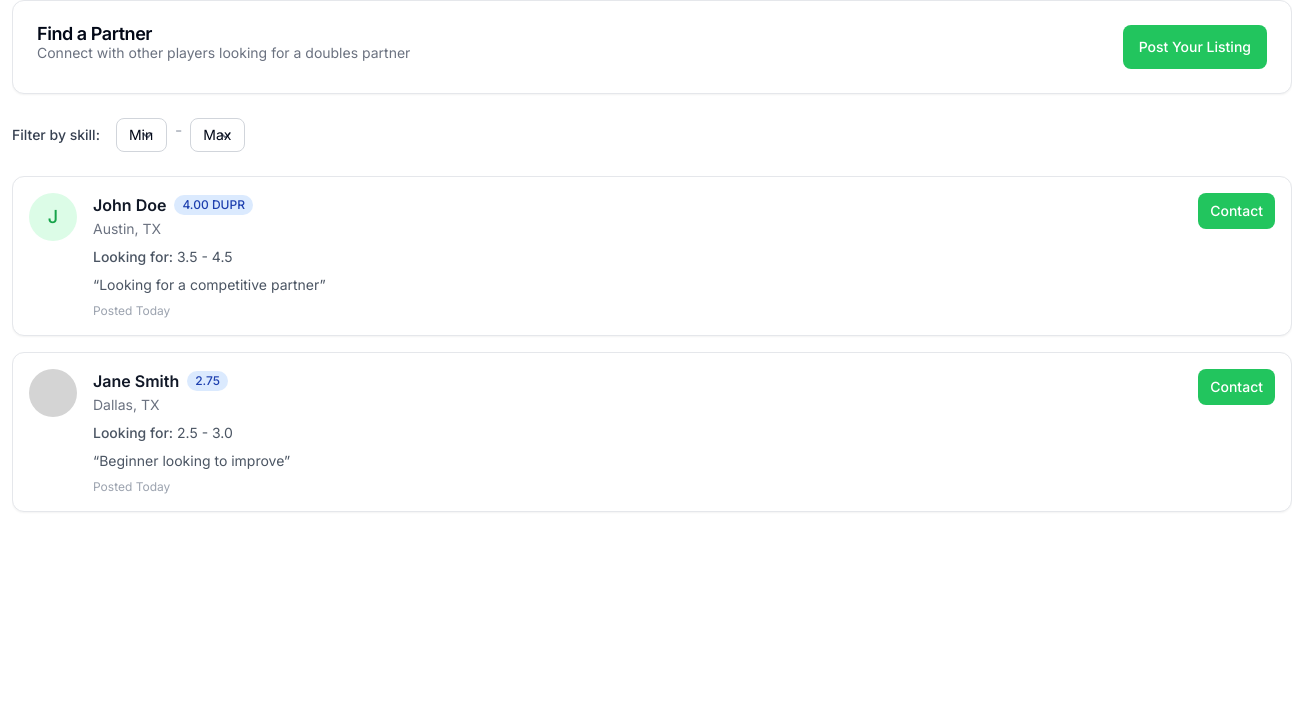
Test: PartnerMarketplace › Create Listing Form › shows create listing form when button is clicked
The width and height of the screenshot is (1292, 720).
Click the button "Post Your Listing".
click(1195, 47)  # box [1123,25,1267,69]
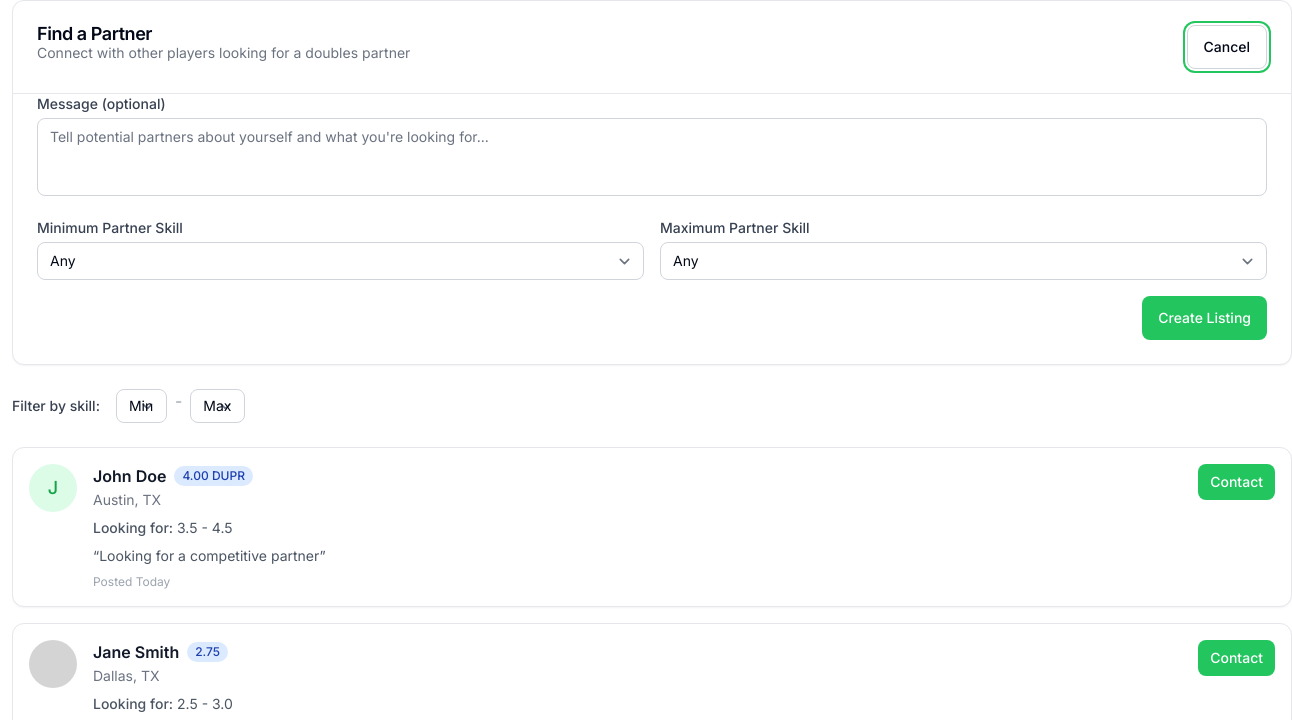
Now the text box labelled "Message (optional)" is shown, box [37,118,1267,196]
Now the dropdown labelled "Minimum Partner Skill" is shown, box [37,242,644,280]
Now the dropdown labelled "Maximum Partner Skill" is shown, box [660,242,1267,280]
